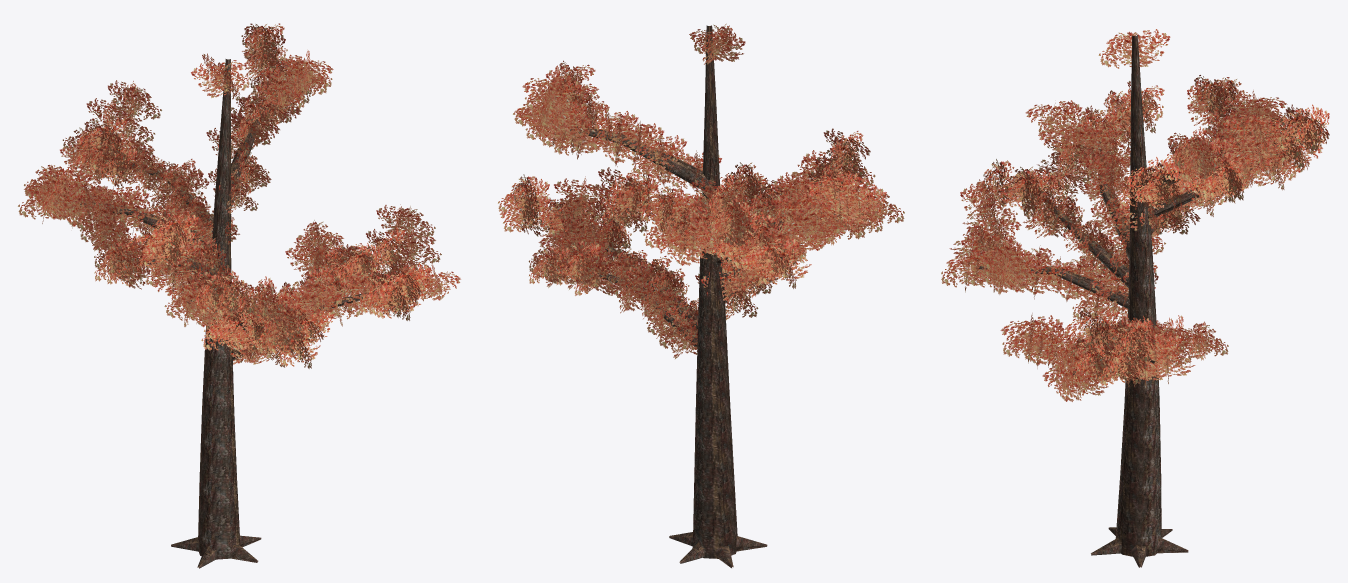
File: tree_3d_05_copper_lod1.glb
The picture shows the model from 3 angles, left to right: view 1: azimuth 30°, elevation 25°; view 2: azimuth 150°, elevation 25°; view 3: azimuth 270°, elevation 25°; orthographic projection. The views are drawn at different scales.
Visible parts, largest first — view 1: foliage_cards, wood_geometry; view 2: foliage_cards, wood_geometry; view 3: foliage_cards, wood_geometry.
Boxes of the visible parts, left/top/right/bottom form: foliage_cards: left=18, top=23, right=460, bottom=368; wood_geometry: left=72, top=59, right=428, bottom=568; foliage_cards: left=498, top=23, right=904, bottom=358; wood_geometry: left=550, top=25, right=848, bottom=568; foliage_cards: left=941, top=29, right=1329, bottom=401; wood_geometry: left=979, top=35, right=1278, bottom=567.
Bounding box in the file's own units: 11.18 × 14.65 × 10.09.
Materials: 2 (2 with a texture image).
